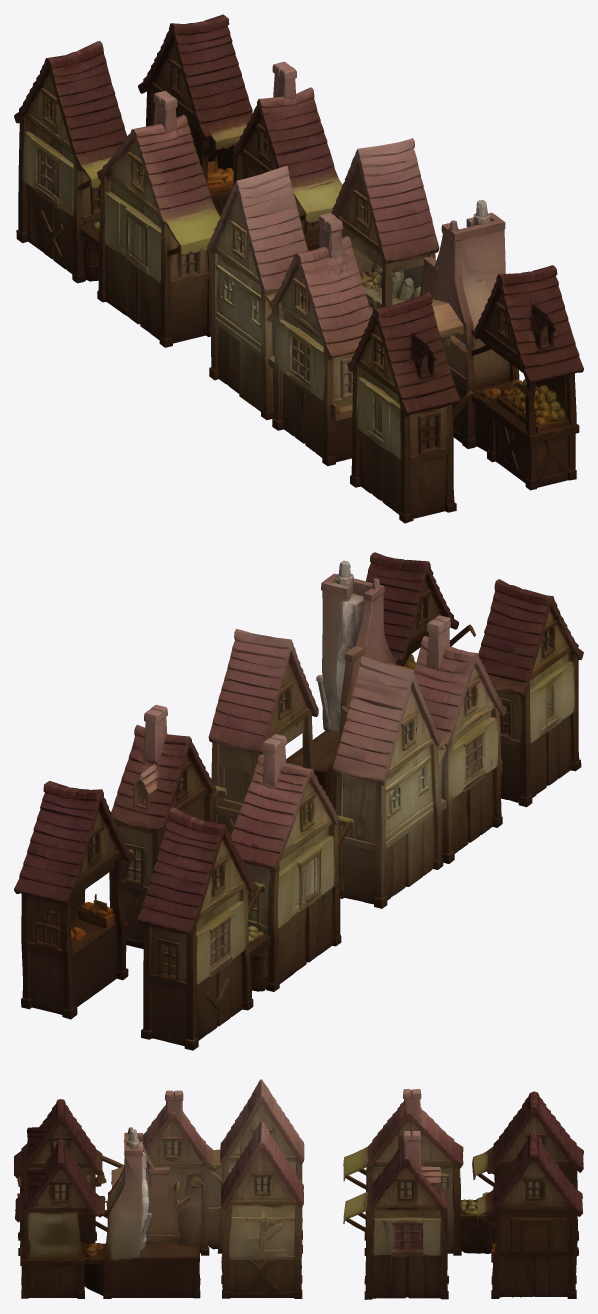
3 views of the same model, one above another, from view 1: azimuth 30°, elevation 25°; view 2: azimuth 150°, elevation 25°; view 3: azimuth 270°, elevation 25° (orthographic). The views are drawn at different scales.
Parts seen in each view (by area): view 1: model; view 2: model; view 3: model.
Part boxes in pixels (left/top/right/bottom): model: left=14, top=14, right=583, bottom=523; model: left=14, top=552, right=583, bottom=1050; model: left=14, top=1079, right=583, bottom=1299.
Bounding box in the file's own units: 0.5027 × 0.6009 × 1.9.
Materials: 1 (1 with a texture image).
